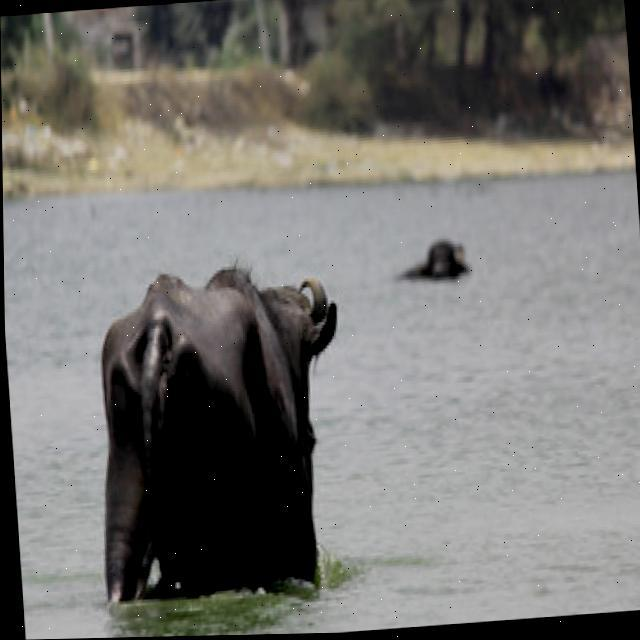Buffalo: (80, 250, 358, 609)
